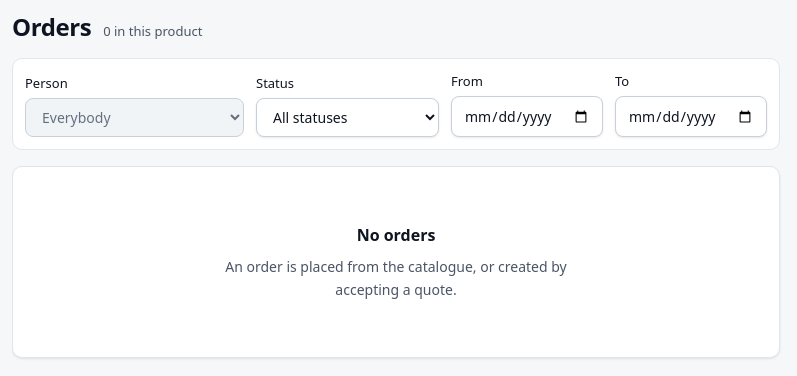
Test: the filter above the list › says an empty page is the filter's, and keeps the filter on screen
Select "CANCELLED" in the dropdown with test id "filter-status". click: (348, 118)
box: [256,98,439,137]
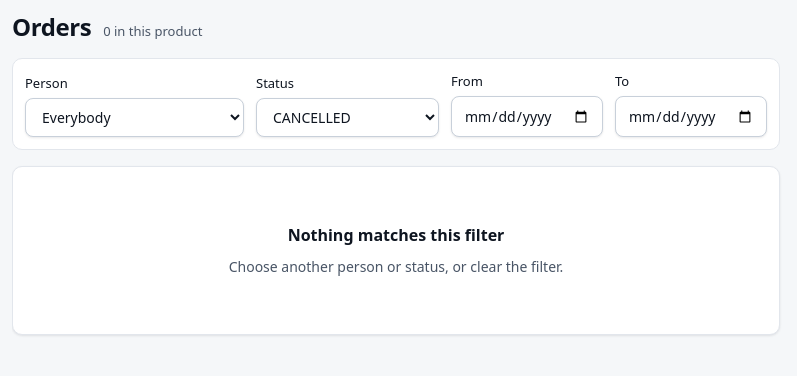
expect the element with test id "order-filters" is shown: met, box [12,58,780,150]
expect the text "Nothing matches this filter" is shown: met, box [288,223,504,247]
